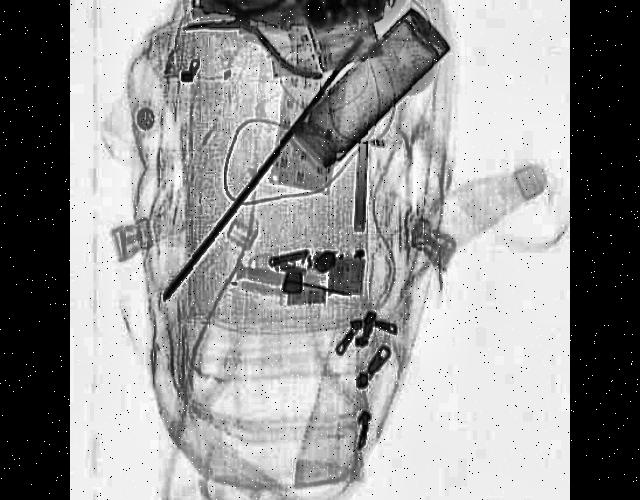Pliers: (183, 0, 332, 81)
